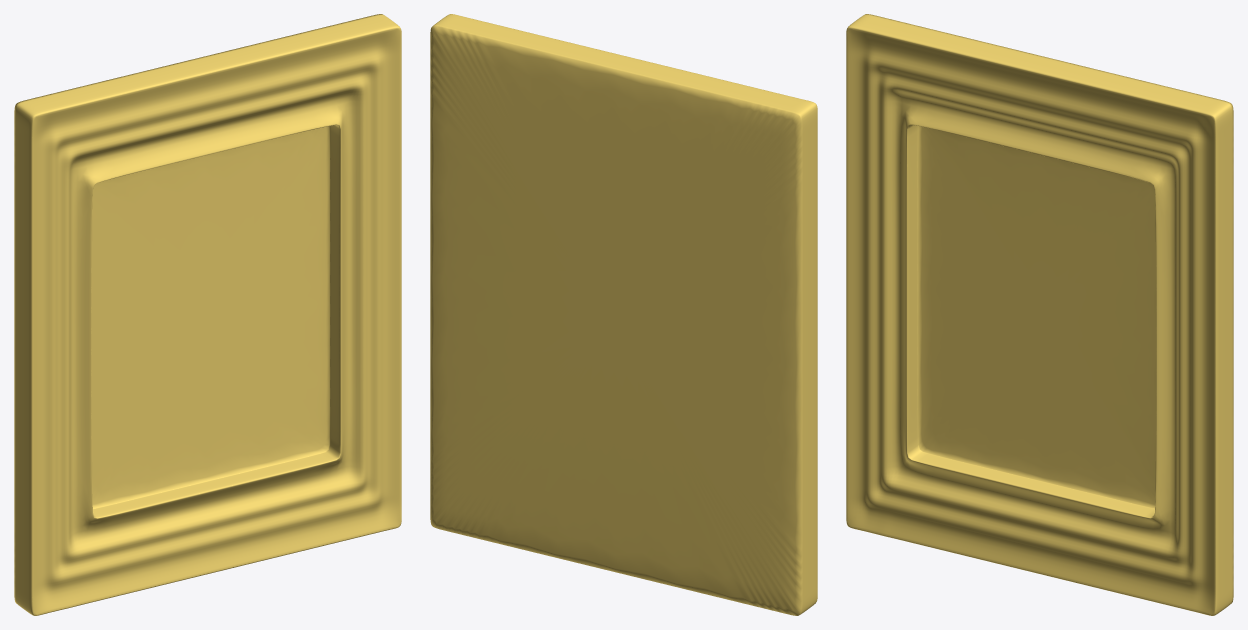
File: Frame_Yellow.glb
The picture shows the model from 3 angles, left to right: view 1: azimuth 30°, elevation 25°; view 2: azimuth 150°, elevation 25°; view 3: azimuth 330°, elevation 25°; orthographic projection.
Parts seen in each view (by area): view 1: frameHIGH; view 2: frameHIGH; view 3: frameHIGH.
Boxes of the visible parts, x1,y1,x2,y2 form: frameHIGH: (14, 14, 401, 615); frameHIGH: (430, 14, 817, 615); frameHIGH: (846, 14, 1233, 615).
Size of the model in its own units: 6.55 by 8.48 by 0.5856.
